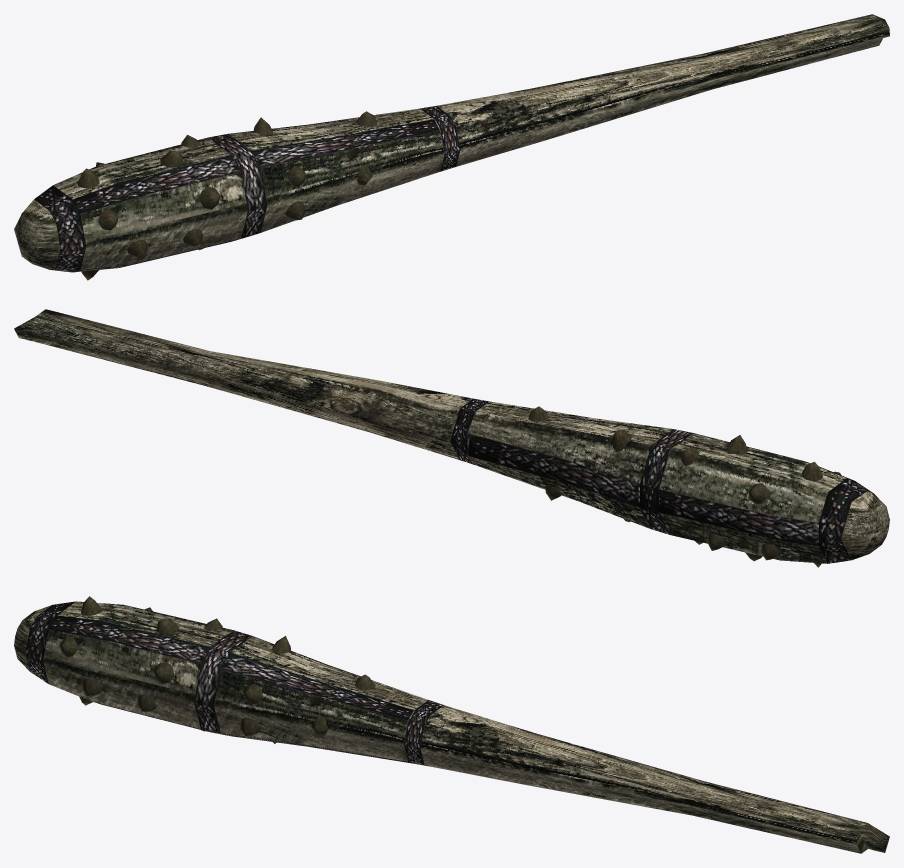
Rendered from ITMW_CLUB_2H_01.glb.
3 renders of one model, top to bottom at view 1: azimuth 30°, elevation 25°; view 2: azimuth 150°, elevation 25°; view 3: azimuth 330°, elevation 25°, orthographic. The views are drawn at different scales.
Parts seen in each view (by area): view 1: Mesh; view 2: Mesh; view 3: Mesh.
Boxes of the visible parts, x1,y1,x2,y2 form: Mesh: (14, 14, 889, 280); Mesh: (14, 309, 889, 567); Mesh: (14, 596, 889, 853).
Size of the model in its own units: 1.59 by 0.1967 by 0.174.
Materials: 4 (4 with a texture image).
